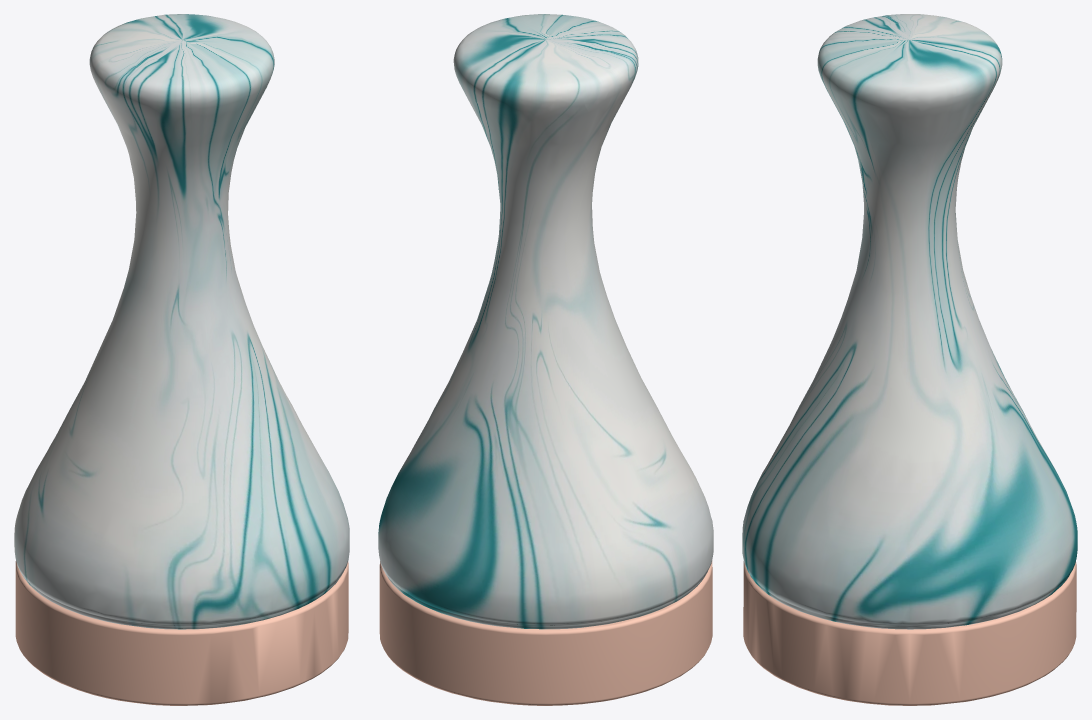
Rendered from bishop-white.glb.
The picture shows the model from 3 angles, left to right: view 1: azimuth 30°, elevation 25°; view 2: azimuth 150°, elevation 25°; view 3: azimuth 270°, elevation 25°; orthographic projection.
Visible parts, largest first — view 1: strelec_bila; view 2: strelec_bila; view 3: strelec_bila.
Boxes of the visible parts, x1,y1,x2,y2 form: strelec_bila: (14, 14, 349, 705); strelec_bila: (378, 14, 713, 705); strelec_bila: (742, 14, 1077, 705).
Size of the model in its own units: 0.6825 by 1.34 by 0.6822.
Materials: 2 (1 with a texture image).
